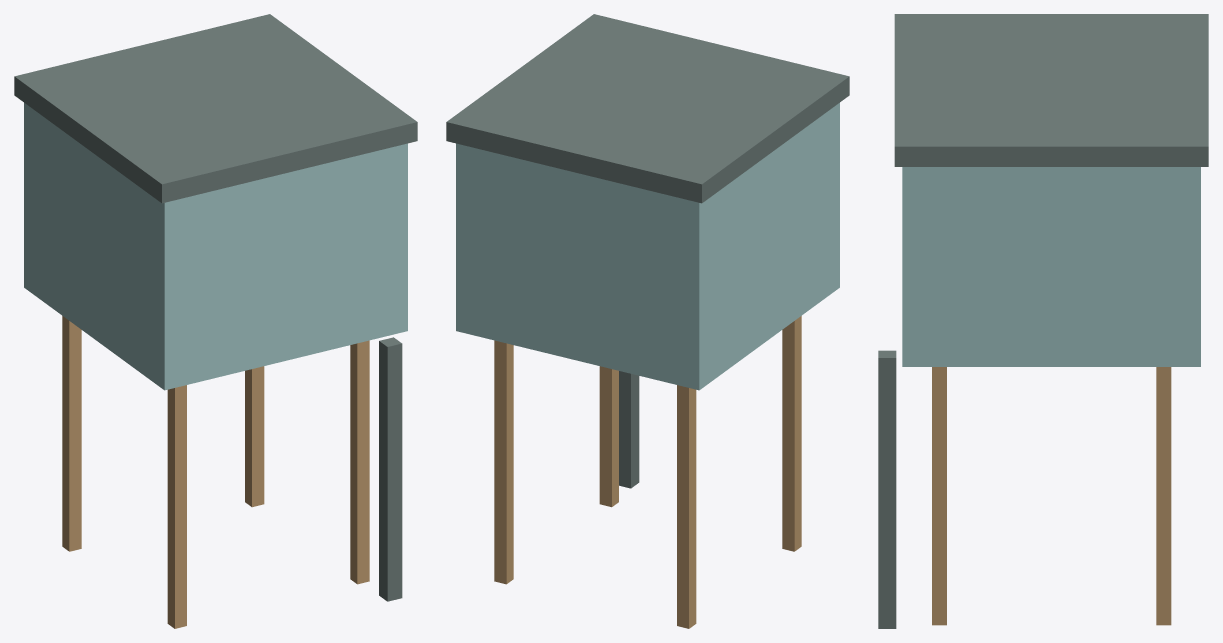
The model's file is cozy-farm-and-homestead-water-header-tank-a5964ed6__19374.glb.
The picture shows the model from 3 angles, left to right: view 1: azimuth 30°, elevation 25°; view 2: azimuth 150°, elevation 25°; view 3: azimuth 270°, elevation 25°; orthographic projection. The views are drawn at different scales.
Parts seen in each view (by area): view 1: water-header-tank; view 2: water-header-tank; view 3: water-header-tank.
Boxes of the visible parts, bbox=[...] form: water-header-tank: bbox=[14, 14, 417, 628]; water-header-tank: bbox=[446, 14, 849, 628]; water-header-tank: bbox=[878, 14, 1208, 628].
Bounding box in the file's own units: 2.1 × 3.65 × 2.21.
